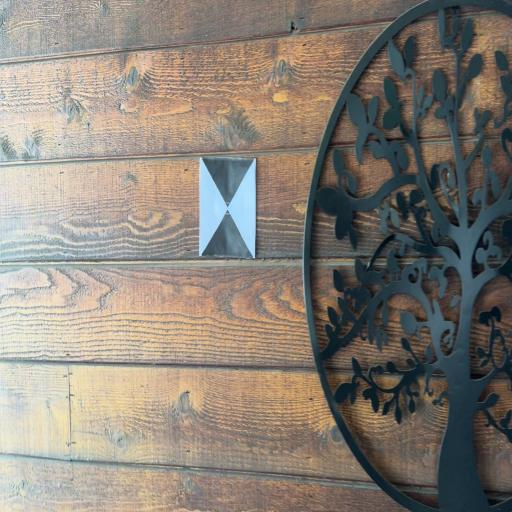target: (200, 158, 254, 256)
